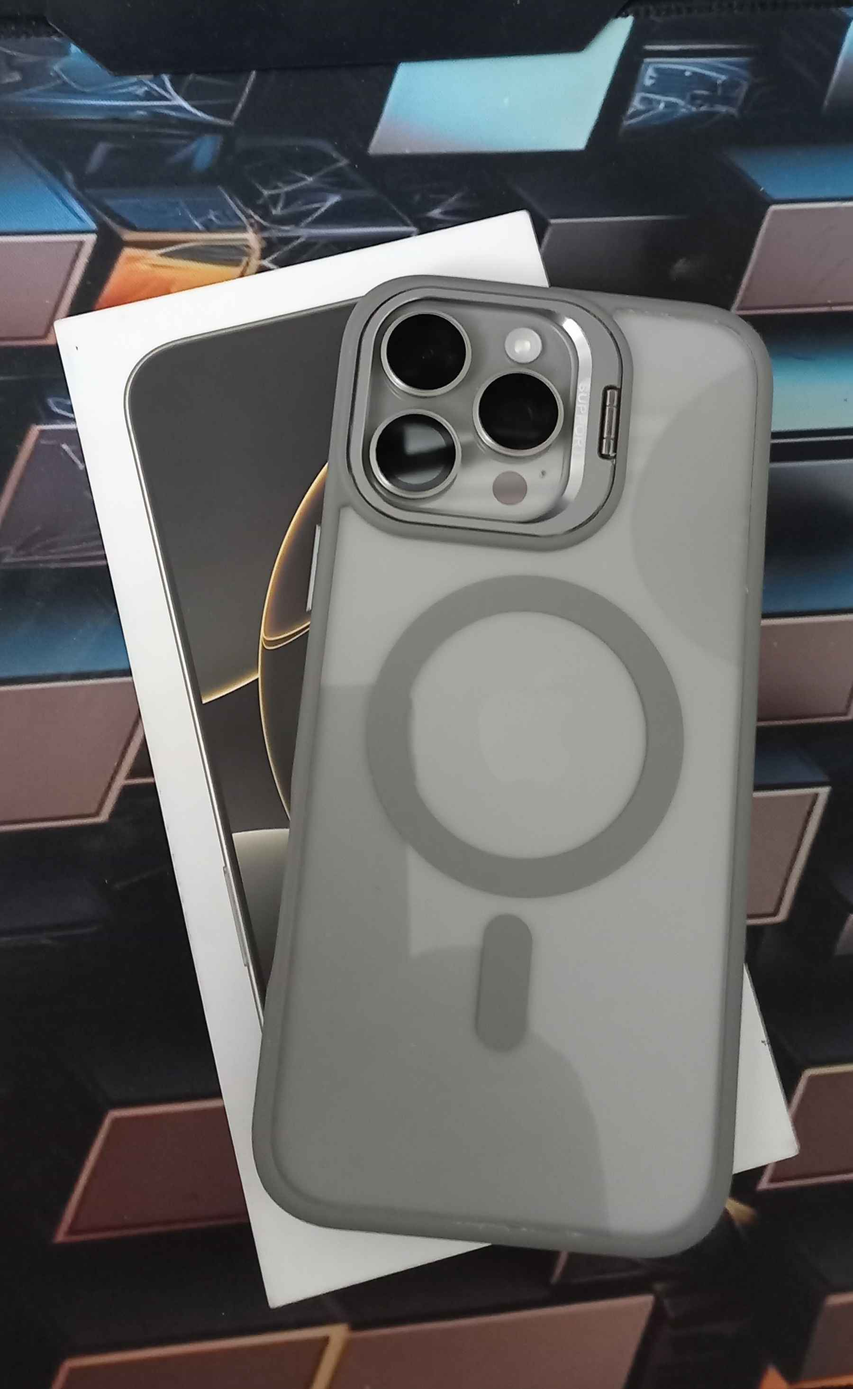phone: (238, 265, 770, 1254)
